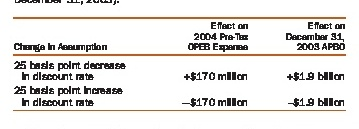table: (0, 0, 359, 129)
